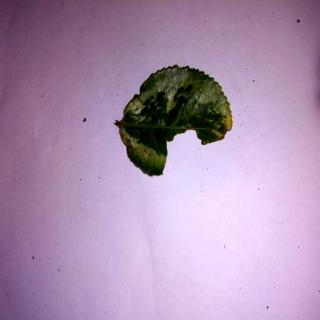Anthracnose: (119, 66, 236, 178)
